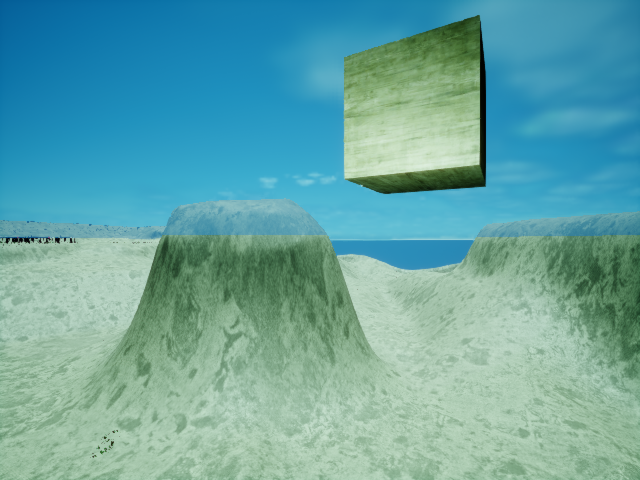Cube: (334, 8, 519, 203)
